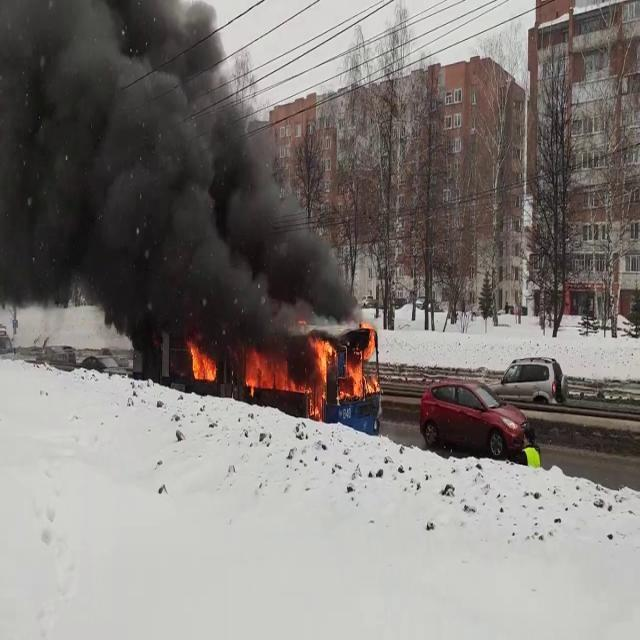Fire: (244, 331, 382, 409), (309, 326, 381, 410), (186, 336, 218, 386)
Smoke: (0, 0, 360, 350)
